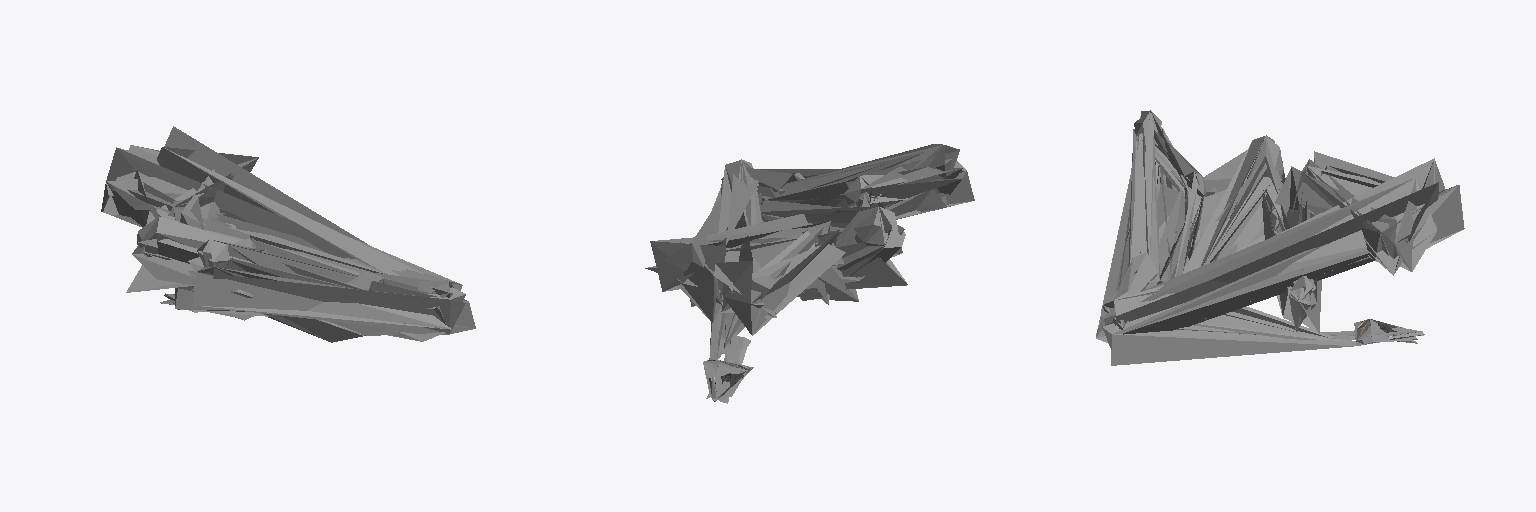
The picture shows the model from 3 angles: view 1: azimuth 30°, elevation 25°; view 2: azimuth 150°, elevation 25°; view 3: azimuth 270°, elevation 25°; orthographic projection.
Visible parts, largest first — view 1: DrawCall_0; view 2: DrawCall_0; view 3: DrawCall_0.
Boxes of the visible parts, x1,y1,x2,y2 form: DrawCall_0: [101, 126, 475, 342]; DrawCall_0: [645, 144, 974, 403]; DrawCall_0: [1096, 110, 1464, 365].
Size of the model in its own units: 1990 by 1281 by 2346.
Materials: 55 (54 with a texture image).